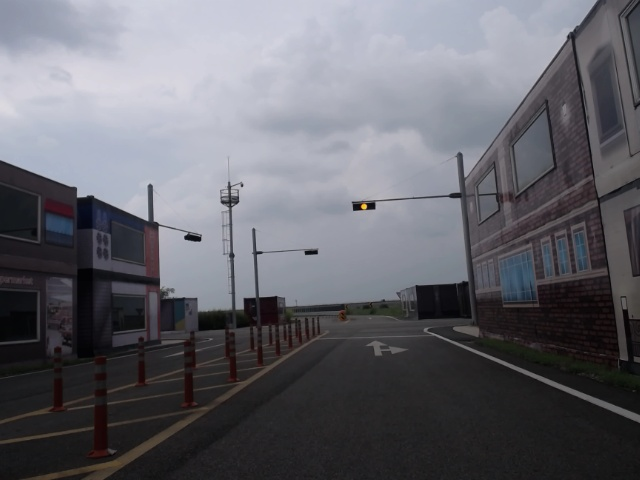orange_3: (353, 202, 375, 212)
